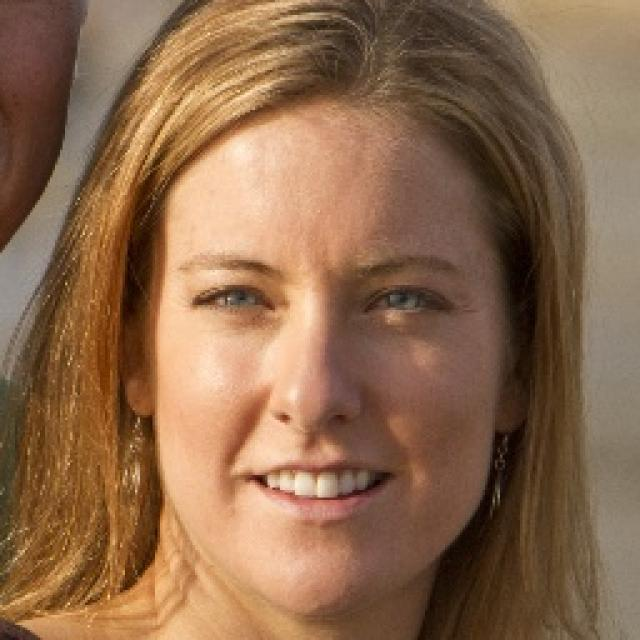earlobe: (496, 372, 534, 435), (121, 355, 155, 419)
eye: (194, 282, 277, 315), (370, 290, 448, 320)
nose: (275, 413, 359, 458)
